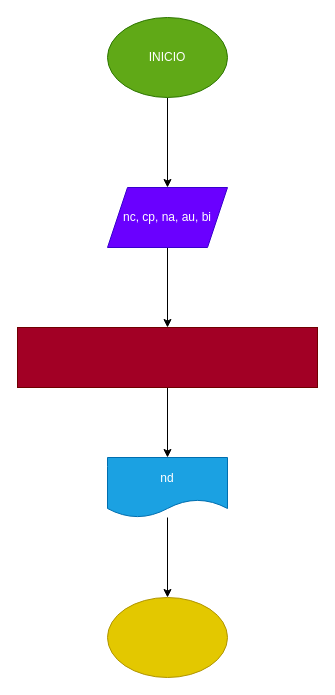
This 335x695 diagram has some shape labels left out. Here are the shapes that lost their labels. From the top down, the centre of each, then its label:
pixel 167 357: nd = 0.3*nc + 0.3*np + 0.1*na + 0.1*au + 0.2*bi
pixel 167 637: FIN
